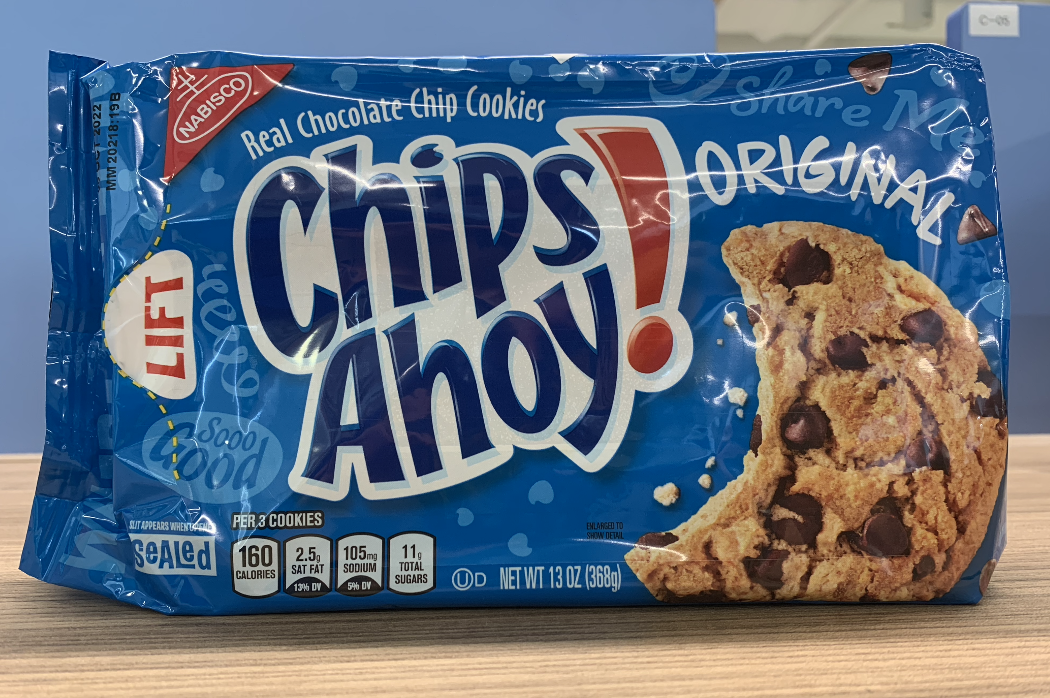cookies_300g-399g: (79, 73, 958, 596)
